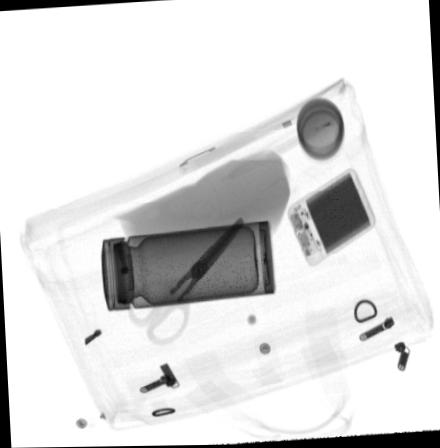Powerbank: (286, 167, 377, 267)
Scissors: (124, 216, 246, 347)
